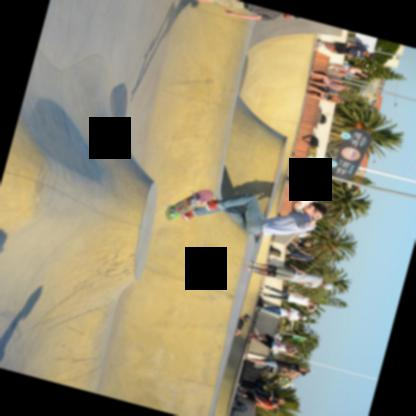backpack: (301, 134, 317, 147), (231, 398, 246, 410), (267, 245, 279, 257)
